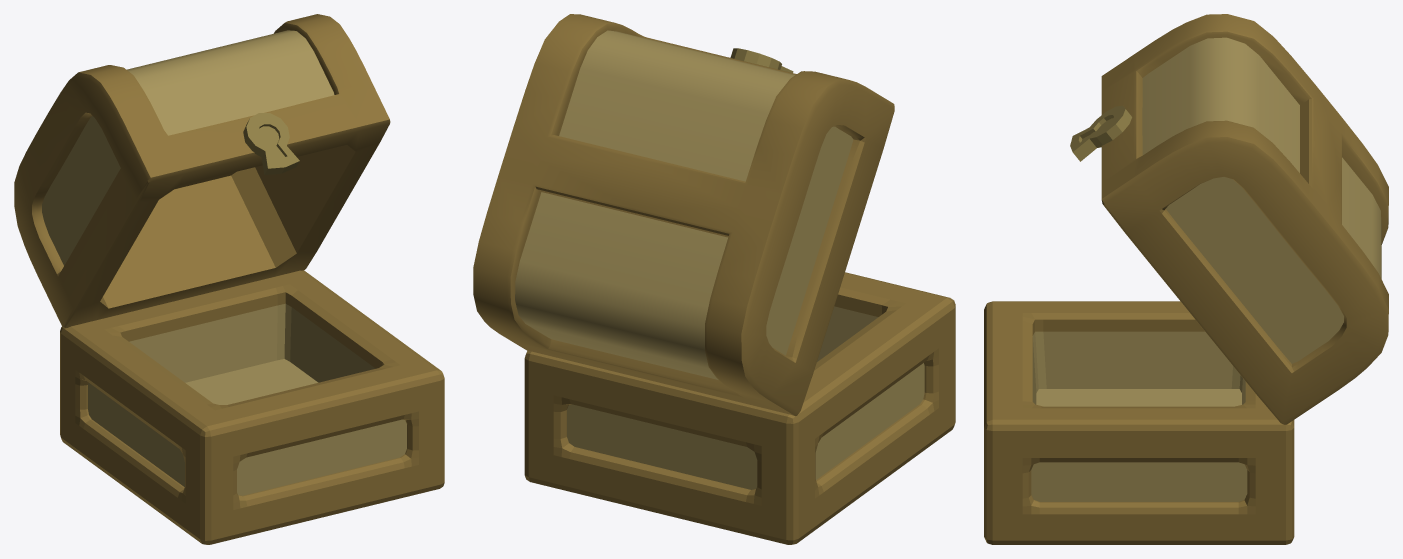
File: open_chest.glb
The picture shows the model from 3 angles, left to right: view 1: azimuth 30°, elevation 25°; view 2: azimuth 150°, elevation 25°; view 3: azimuth 270°, elevation 25°; orthographic projection. The views are drawn at different scales.
Visible parts, largest first — view 1: Chest_Open; view 2: Chest_Open; view 3: Chest_Open.
Part boxes in pixels (left/top/right/bottom): Chest_Open: left=14, top=14, right=444, bottom=544; Chest_Open: left=473, top=14, right=955, bottom=544; Chest_Open: left=984, top=14, right=1388, bottom=544.
Bounding box in the file's own units: 1.84 × 2.8 × 2.51.
1 material, 1 textured.
